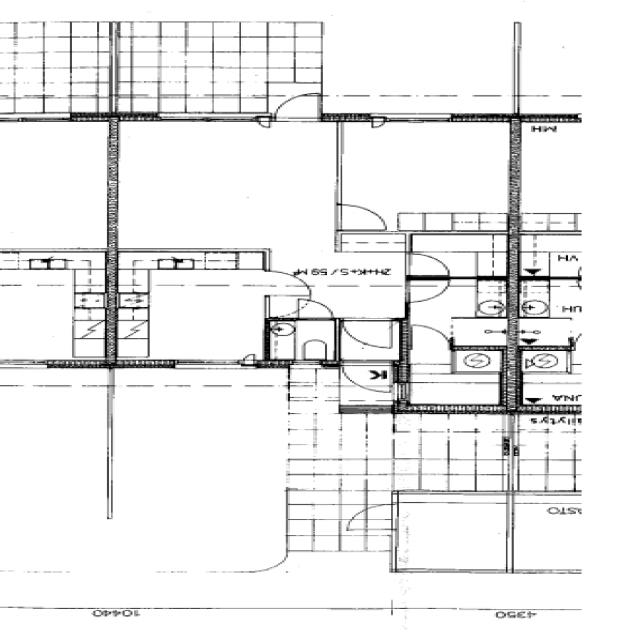door: (332, 201, 394, 234), (340, 318, 399, 352), (340, 360, 394, 393), (270, 90, 325, 122), (347, 501, 399, 530), (402, 278, 452, 305), (403, 252, 455, 277), (405, 322, 454, 348), (264, 268, 312, 294), (263, 294, 310, 319), (292, 299, 338, 321), (367, 115, 390, 130)
window: (171, 357, 246, 372), (1, 112, 76, 127), (378, 113, 456, 125), (0, 358, 53, 372), (287, 358, 327, 370)
zone: (113, 119, 338, 253), (336, 120, 517, 232), (115, 262, 268, 364), (0, 253, 110, 363), (393, 495, 509, 573), (406, 278, 514, 352), (405, 233, 512, 279), (513, 280, 577, 349), (513, 228, 585, 278), (266, 318, 336, 364), (518, 372, 582, 412), (518, 348, 572, 373)
